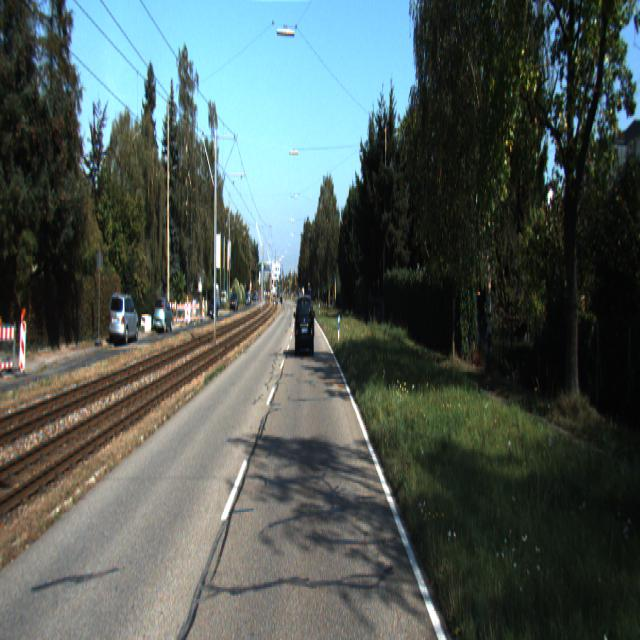Car: (108, 293, 140, 347), (296, 294, 314, 358), (153, 301, 173, 339)
